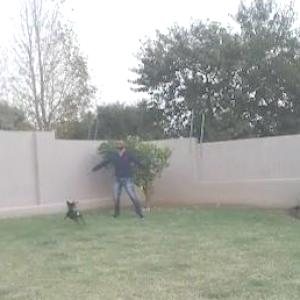land: (87, 127, 164, 230)
